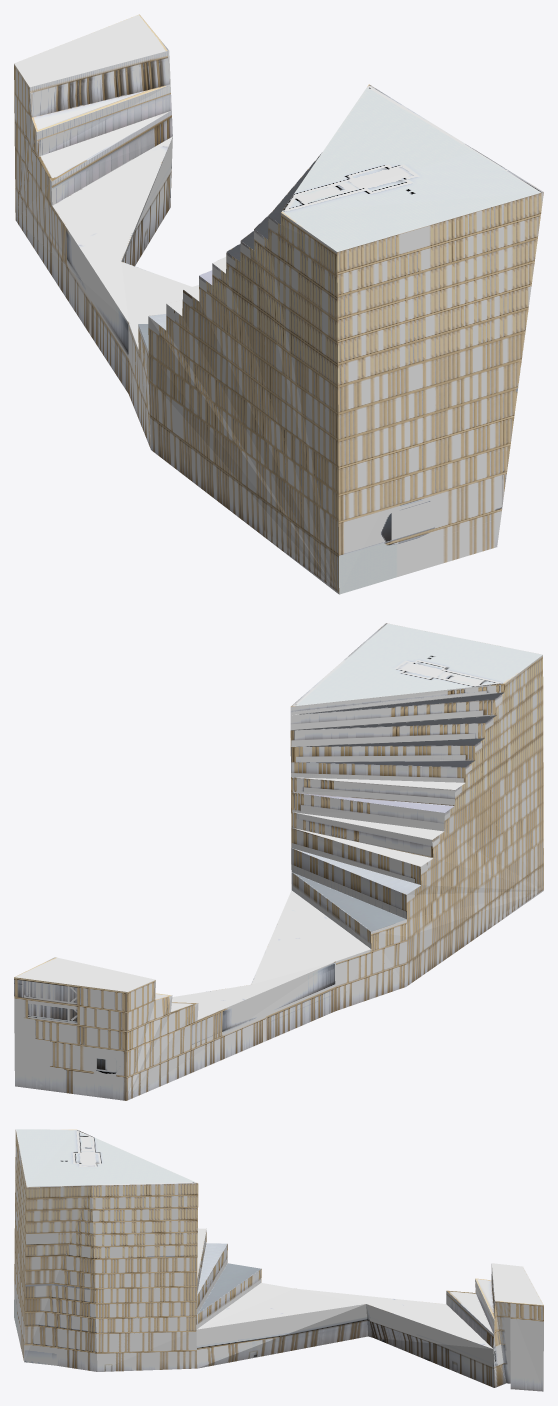
The picture shows the model from 3 angles, top to bottom: view 1: azimuth 30°, elevation 25°; view 2: azimuth 150°, elevation 25°; view 3: azimuth 270°, elevation 25°; orthographic projection. The views are drawn at different scales.
Visible parts, largest first — view 1: 5.02copy; view 2: 5.02copy; view 3: 5.02copy.
Part boxes in pixels (x1,y1,x2,y2): 5.02copy: (14,14,543,594); 5.02copy: (14,623,543,1100); 5.02copy: (14,1129,543,1391).
Size of the model in its own units: 46.86 by 53.98 by 138.
Materials: 1 (1 with a texture image).
